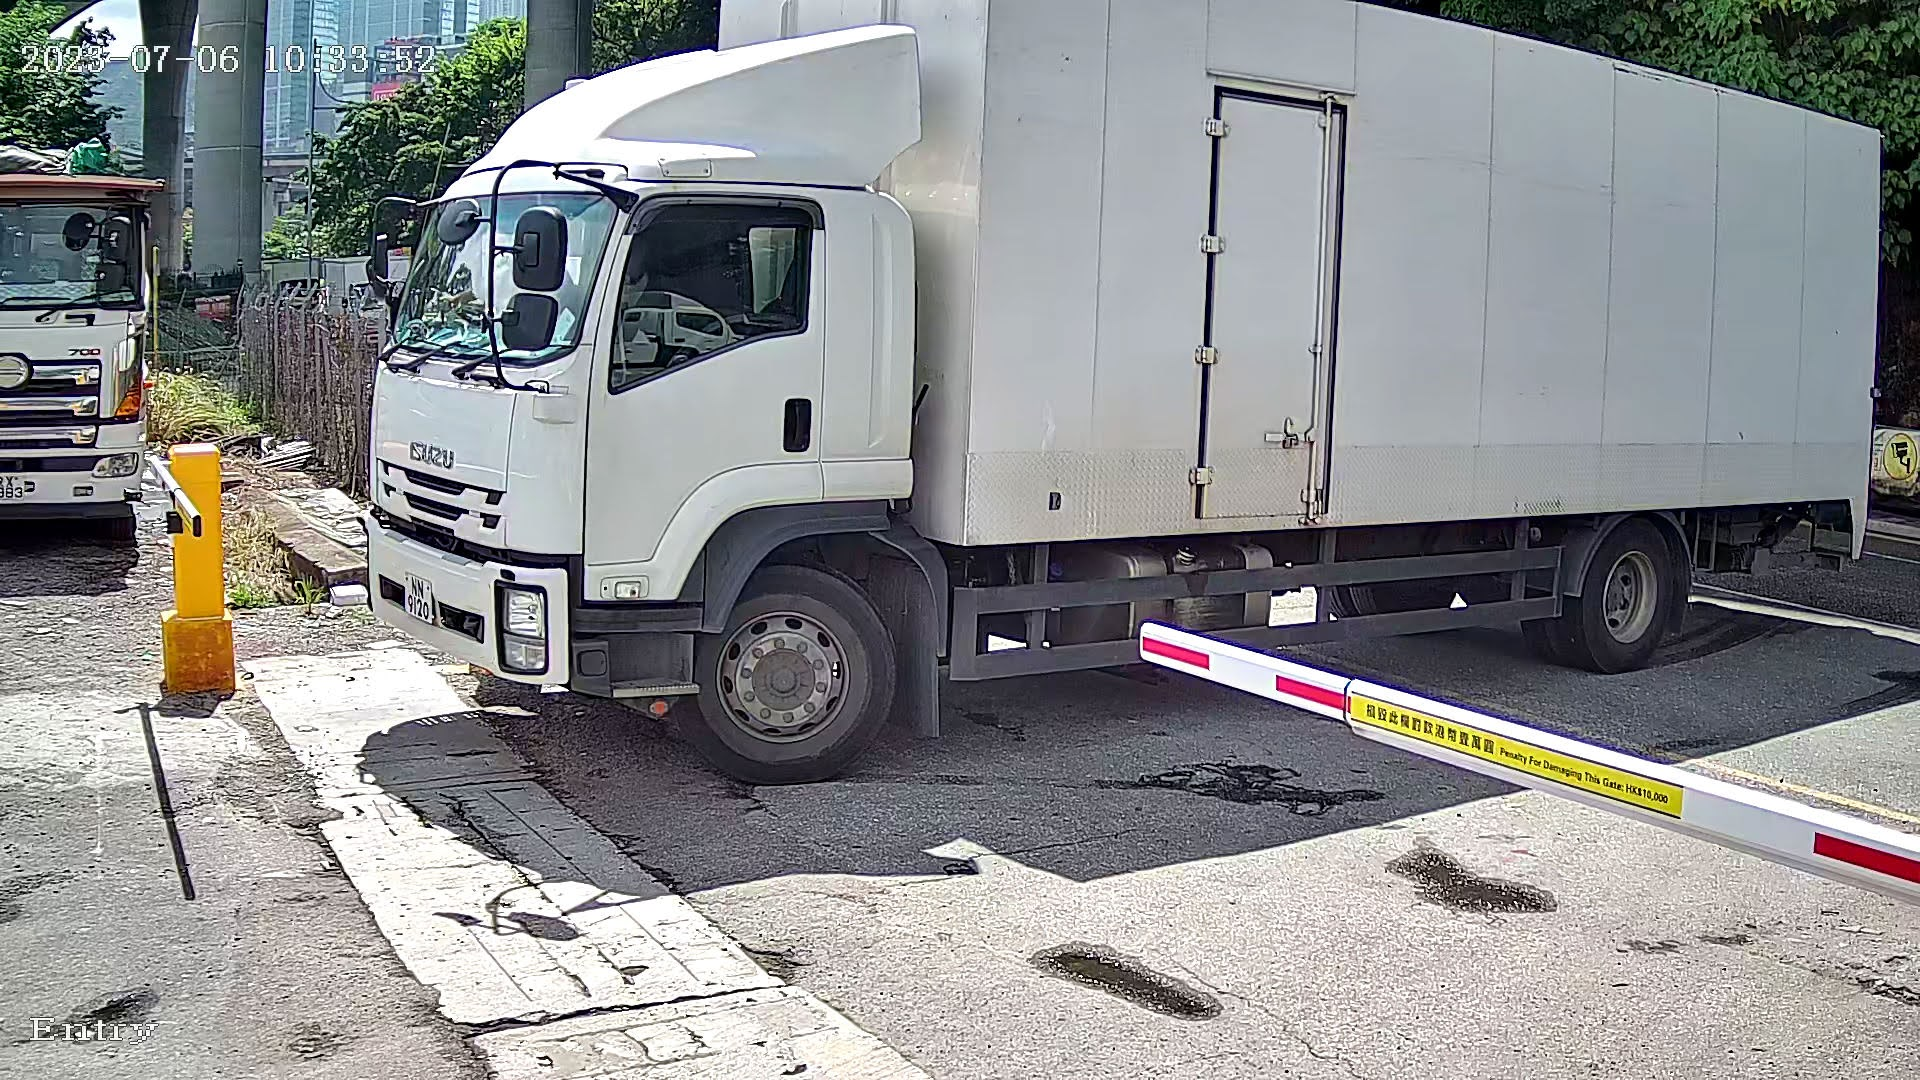truck_large: (316, 1, 1920, 812)
